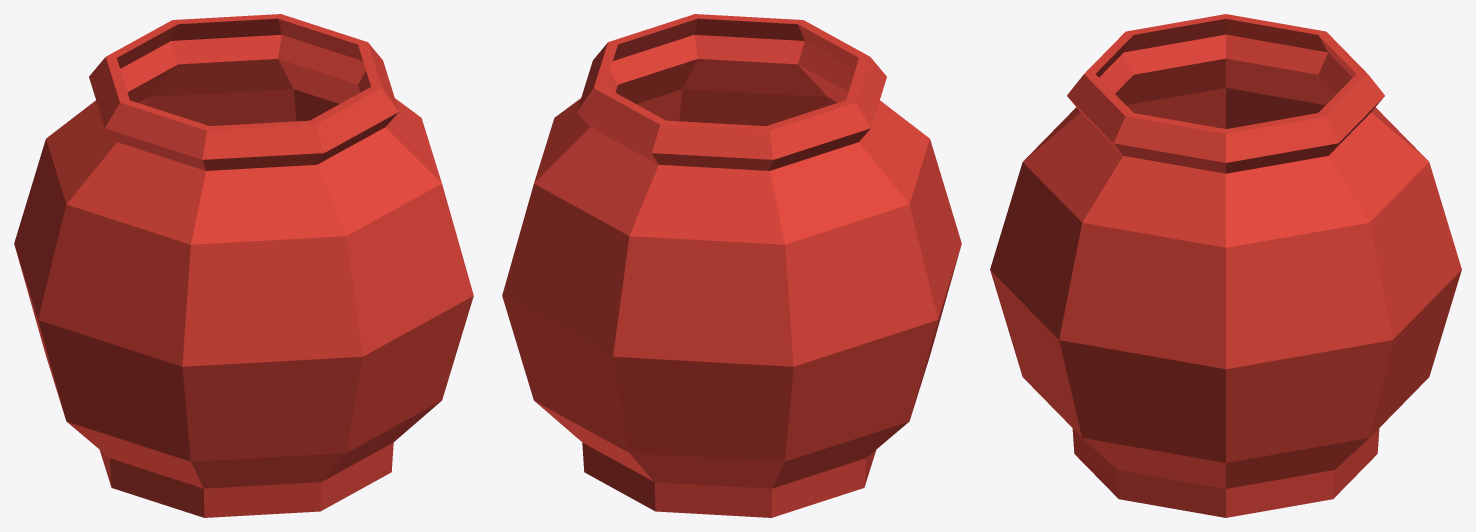
Rendered from Pot_empty_1.fbx.
3 renders of one model, left to right at view 1: azimuth 30°, elevation 25°; view 2: azimuth 150°, elevation 25°; view 3: azimuth 270°, elevation 25°, orthographic.
Parts seen in each view (by area): view 1: Pot_empty_1; view 2: Pot_empty_1; view 3: Pot_empty_1.
Boxes of the visible parts, x1,y1,x2,y2 form: Pot_empty_1: (14,14,473,517); Pot_empty_1: (502,14,961,517); Pot_empty_1: (990,14,1461,517).
Bounding box in the file's own units: 27.28 × 27.28 × 24.55.
